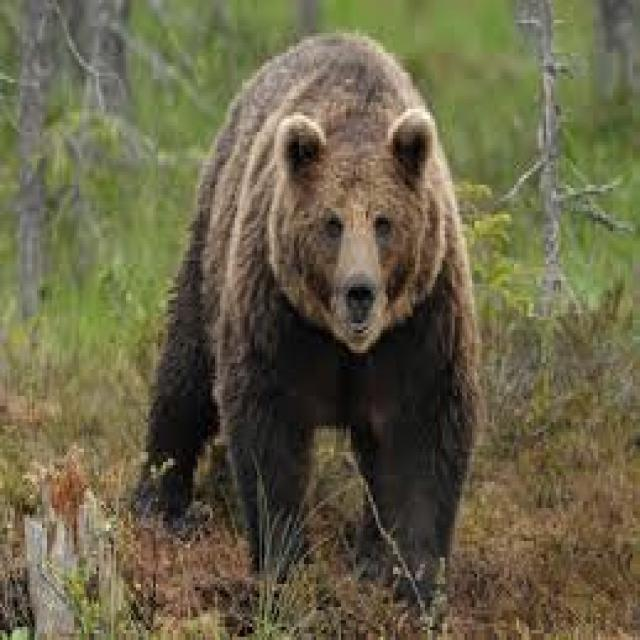bear: (148, 33, 479, 600)
